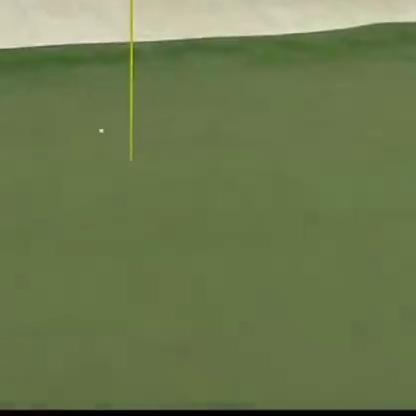golfball: (96, 123, 103, 133)
